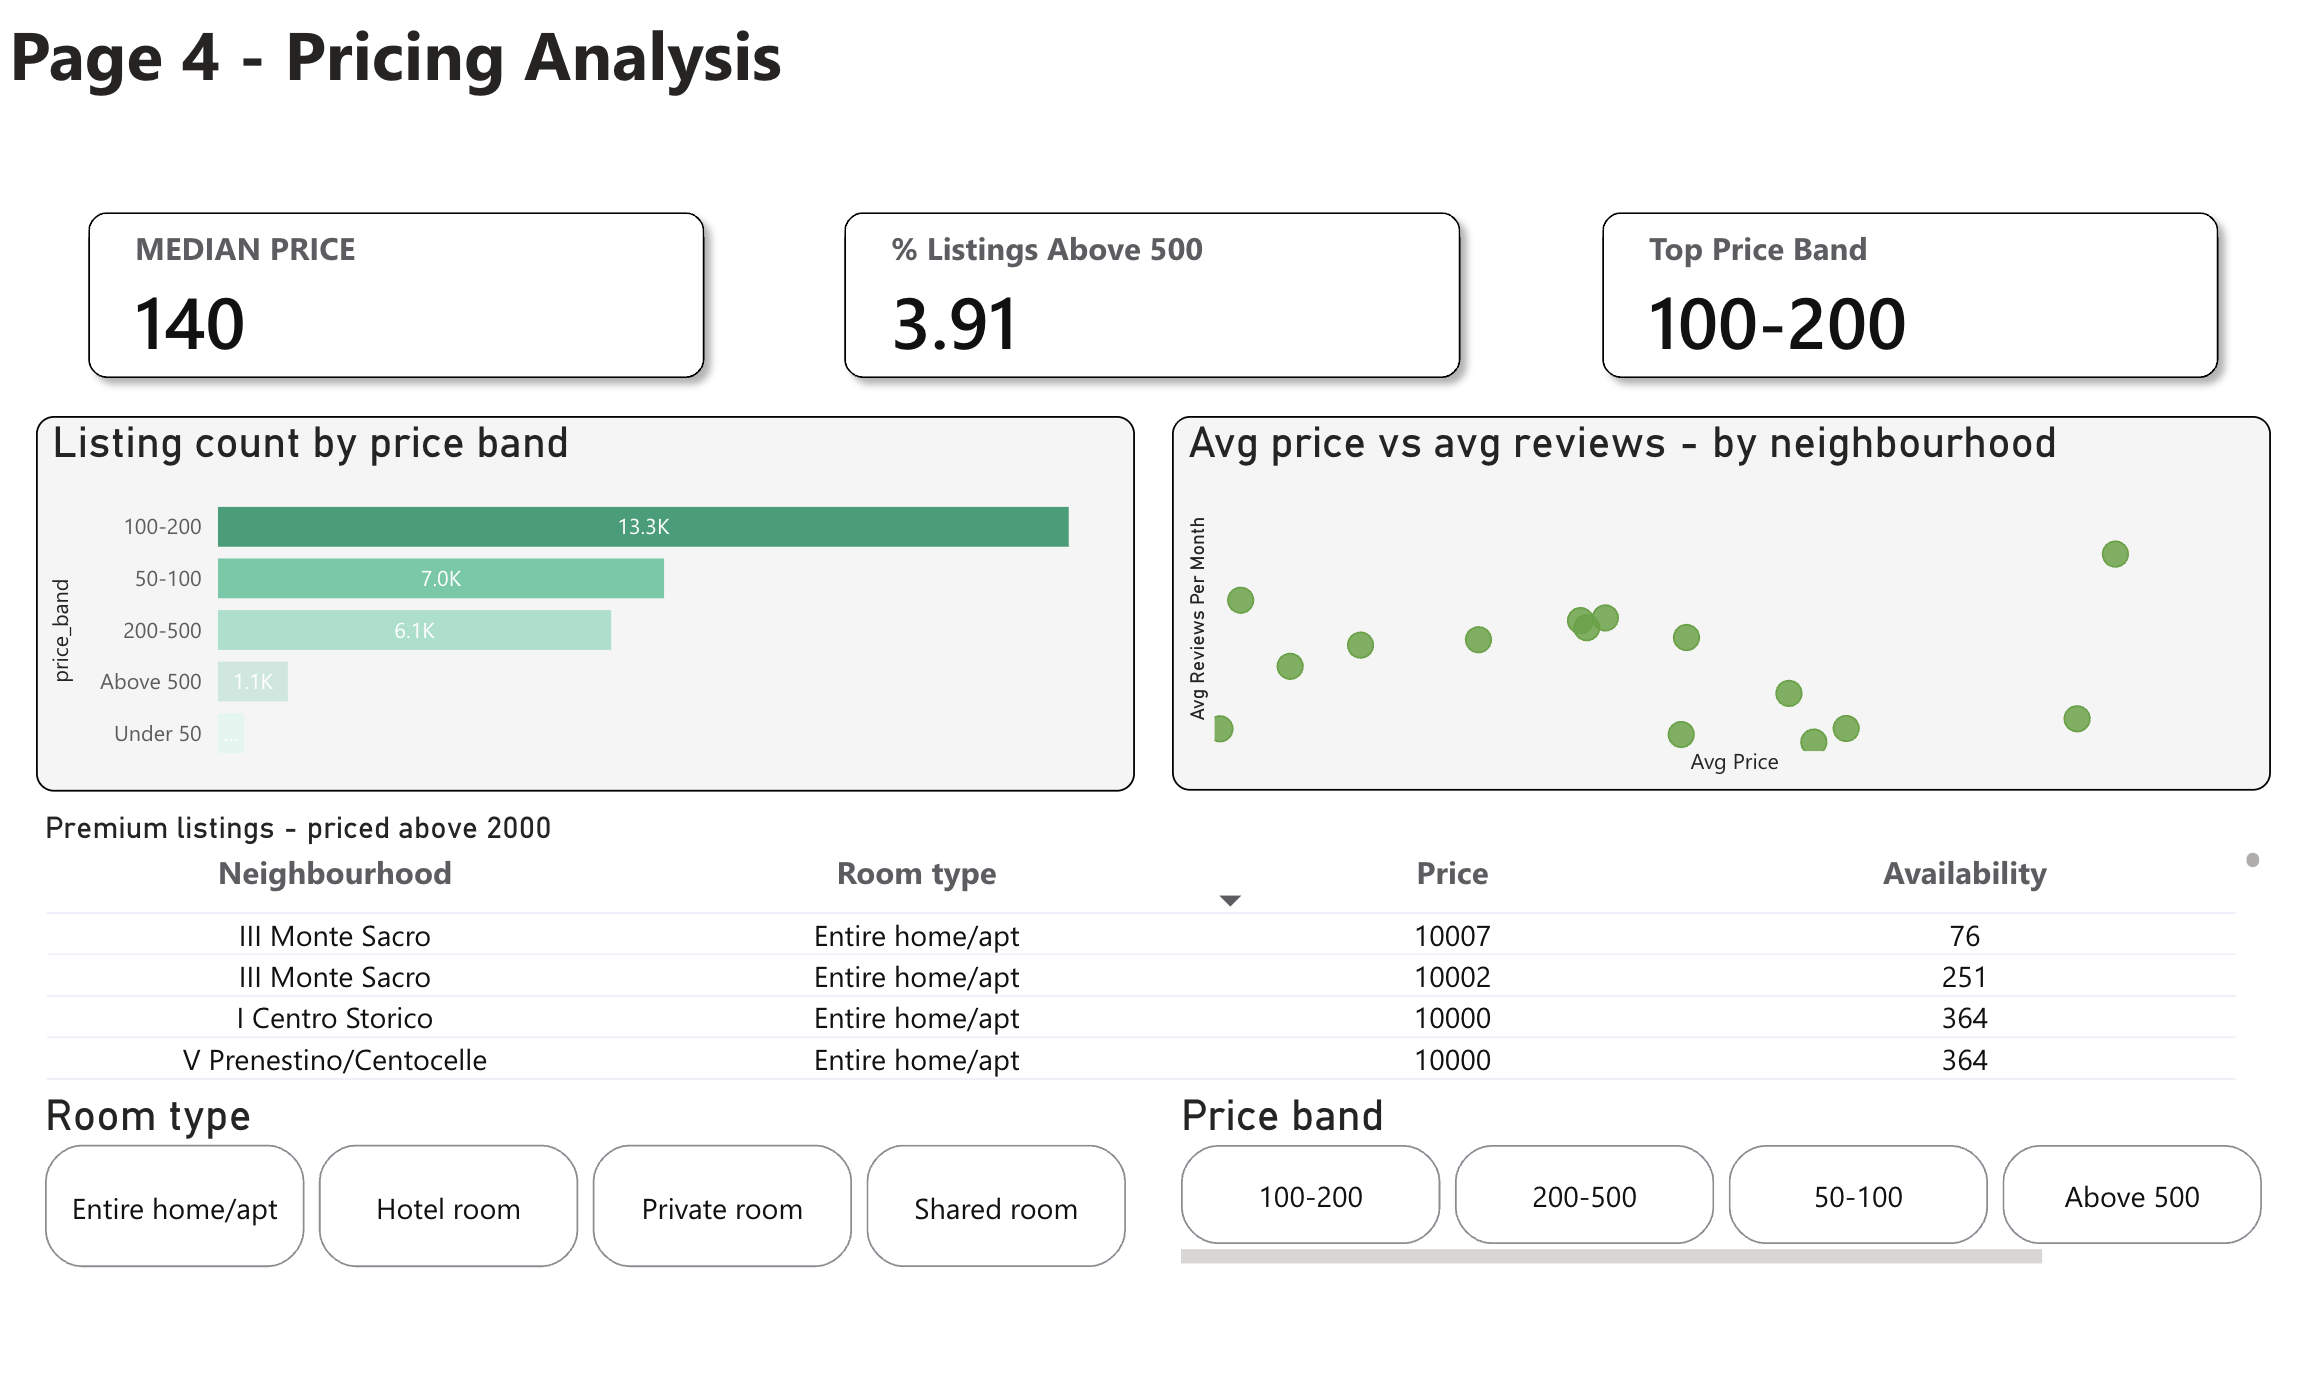

Layout of this report page (visuals, bound fields, positions):
{"tool":"powerbi","page":{"name":"Pricing Analysis","canvas":[1280,720],"ordinal":3},"visuals":[{"type":"textbox","box":[0,0,1280,68.3],"z":0},{"type":"cardVisual","fields":{"Data":["AllMeasures.Median Price"]},"box":[20,90,400,150],"z":1000},{"type":"cardVisual","fields":{"Data":["AllMeasures.% Listings Above 500"]},"box":[440,90,400,150],"z":2000},{"type":"cardVisual","fields":{"Data":["AllMeasures.Top Price Band"]},"box":[860,90,400,150],"z":3000},{"type":"barChart","title":"Listing count by price band","fields":{"Category":["airbnb_data.price_band"],"Y":["AllMeasures.Total Listings"]},"box":[20,231.7,610,208.3],"z":4000},{"type":"scatterChart","title":"Avg price vs avg reviews - by neighbourhood","fields":{"X":["AllMeasures.Avg Price"],"Y":["AllMeasures.Avg Reviews Per Month"],"Category":["airbnb_data.neighbourhood"]},"box":[650,232.2,610,208],"z":5000},{"type":"tableEx","title":"Premium listings - priced above 2000","fields":{"Values":["airbnb_data.neighbourhood","airbnb_data.room_type","airbnb_data.price","airbnb_data.availability_365"]},"box":[20,453.3,1240,154],"z":6000},{"type":"advancedSlicerVisual","fields":{"Values":["airbnb_data.room_type"]},"box":[20,610,610,100],"z":7000},{"type":"advancedSlicerVisual","fields":{"Values":["airbnb_data.price_band"]},"box":[650,610,610,100],"z":8000}]}

Visuals, with their boxes on the page's 1280x720 design canvas (x1, y1, x2, y2). These are canvas units, not pixel positions in the 2304x1398 screenshot, which may show the page scaled, cropped or inside an application window:
textbox: bbox=[0, 0, 1280, 68]
cardVisual - AllMeasures.Median Price: bbox=[20, 90, 420, 240]
cardVisual - AllMeasures.% Listings Above 500: bbox=[440, 90, 840, 240]
cardVisual - AllMeasures.Top Price Band: bbox=[860, 90, 1260, 240]
"Listing count by price band" barChart: bbox=[20, 232, 630, 440]
"Avg price vs avg reviews - by neighbourhood" scatterChart: bbox=[650, 232, 1260, 440]
"Premium listings - priced above 2000" tableEx: bbox=[20, 453, 1260, 607]
advancedSlicerVisual - airbnb_data.room_type: bbox=[20, 610, 630, 710]
advancedSlicerVisual - airbnb_data.price_band: bbox=[650, 610, 1260, 710]
